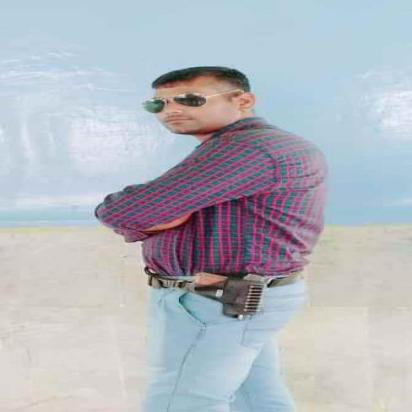Gun: (186, 268, 274, 323)
